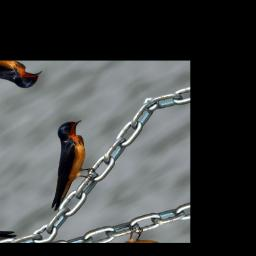Swallow: (10, 114, 123, 214)
